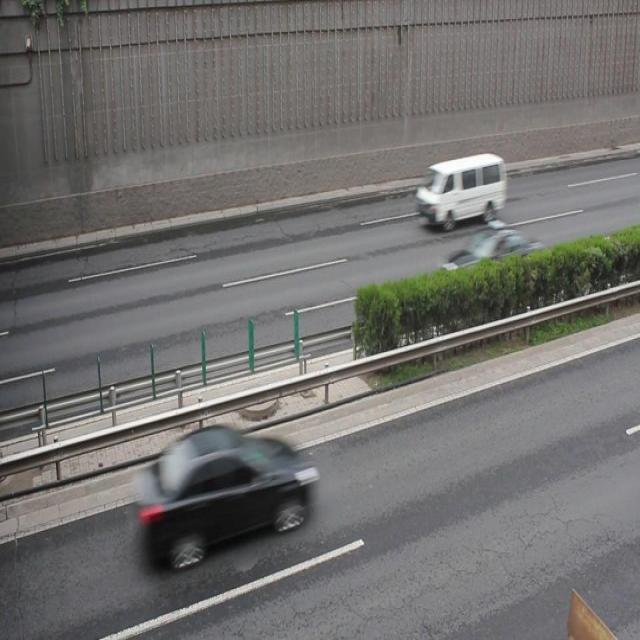car: (136, 424, 312, 564), (438, 222, 541, 298)
truck: (415, 152, 504, 225)
